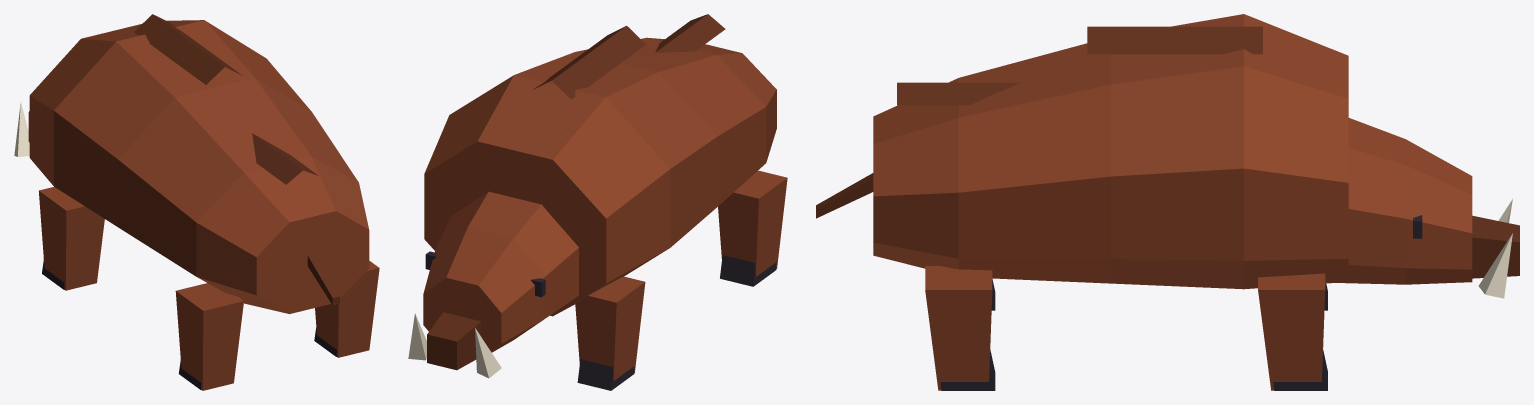
The model's file is boar.glb.
3 renders of one model, left to right at view 1: azimuth 30°, elevation 25°; view 2: azimuth 150°, elevation 25°; view 3: azimuth 270°, elevation 25°, orthographic. The views are drawn at different scales.
Visible parts, largest first — view 1: boarBody; view 2: boarBody; view 3: boarBody.
Part boxes in pixels (left/top/right/bottom): boarBody: left=14, top=14, right=379, bottom=390; boarBody: left=408, top=14, right=787, bottom=390; boarBody: left=816, top=14, right=1519, bottom=390.
Size of the model in its own units: 0.6282 by 0.73 by 1.48.
